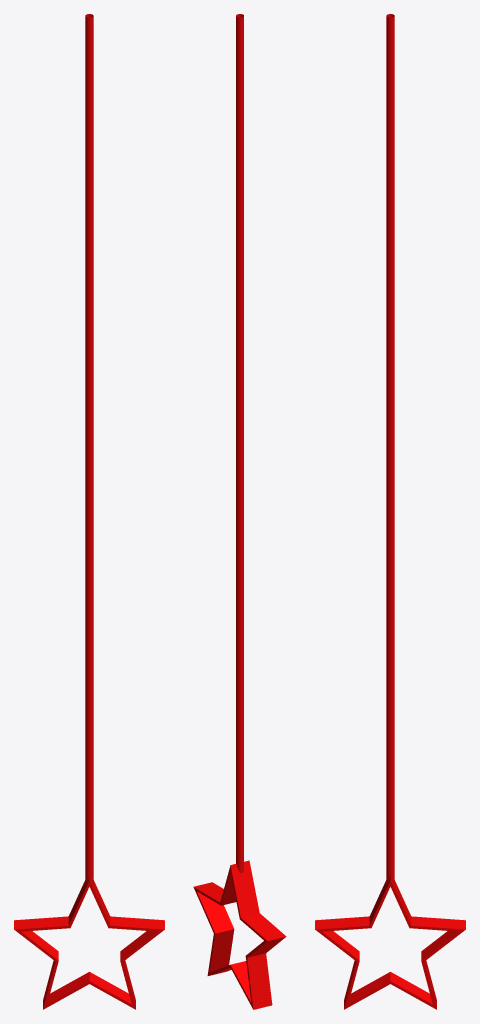
File: cutter1_star.fbx
3 views of the same model, side by side, from view 1: azimuth 90°, elevation 25°; view 2: azimuth 210°, elevation 25°; view 3: azimuth 270°, elevation 25° (orthographic).
Parts seen in each view (by area): view 1: Cutter1_Star; view 2: Cutter1_Star; view 3: Cutter1_Star.
Part boxes in pixels (box(x1,y1,x2,y2)): Cutter1_Star: box(14, 14, 164, 1009); Cutter1_Star: box(193, 14, 286, 1009); Cutter1_Star: box(315, 14, 465, 1009).
Bounding box in the file's own units: 16.77 × 823 × 114.
